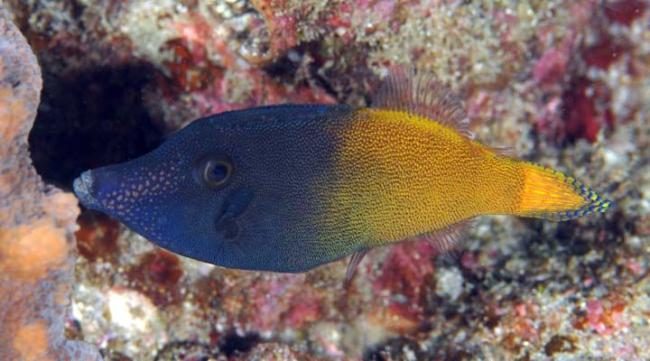fish: (72, 104, 617, 274)
